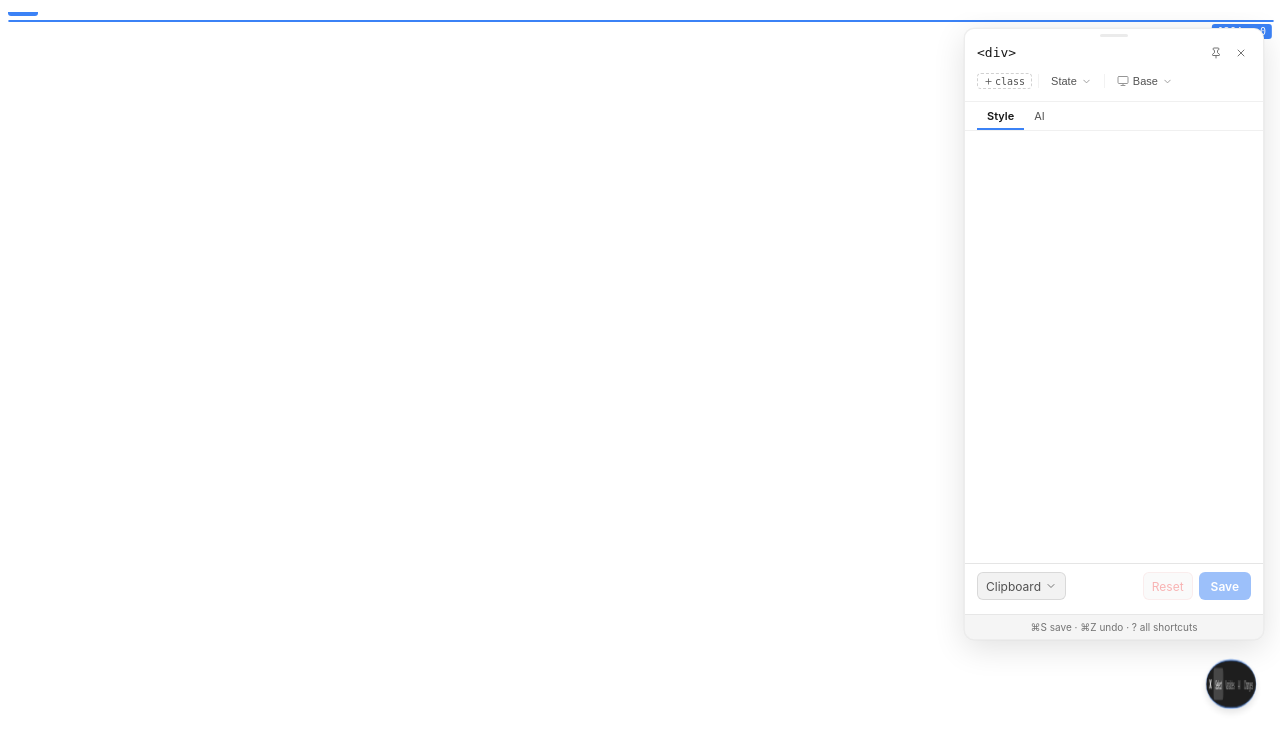
Test: class creation UI (audit 05-class-creation) › suggests existing page classes matching the prefix, and clicking one attaches it
Click the button with aria-label "Add class" at (1005, 81), box [977, 73, 1032, 89]
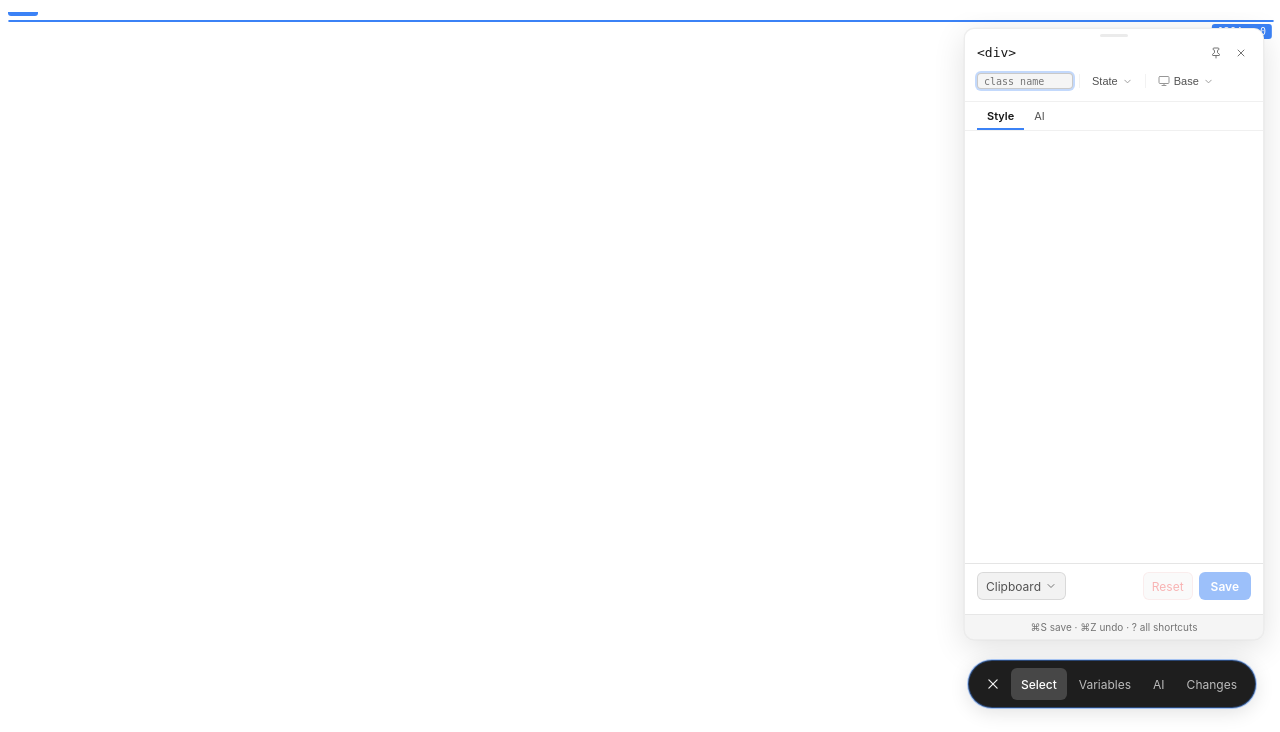
expect the field named "New class name" is shown: met
Type "hero" into the field named "New class name" at (1025, 81), box [977, 73, 1073, 89]
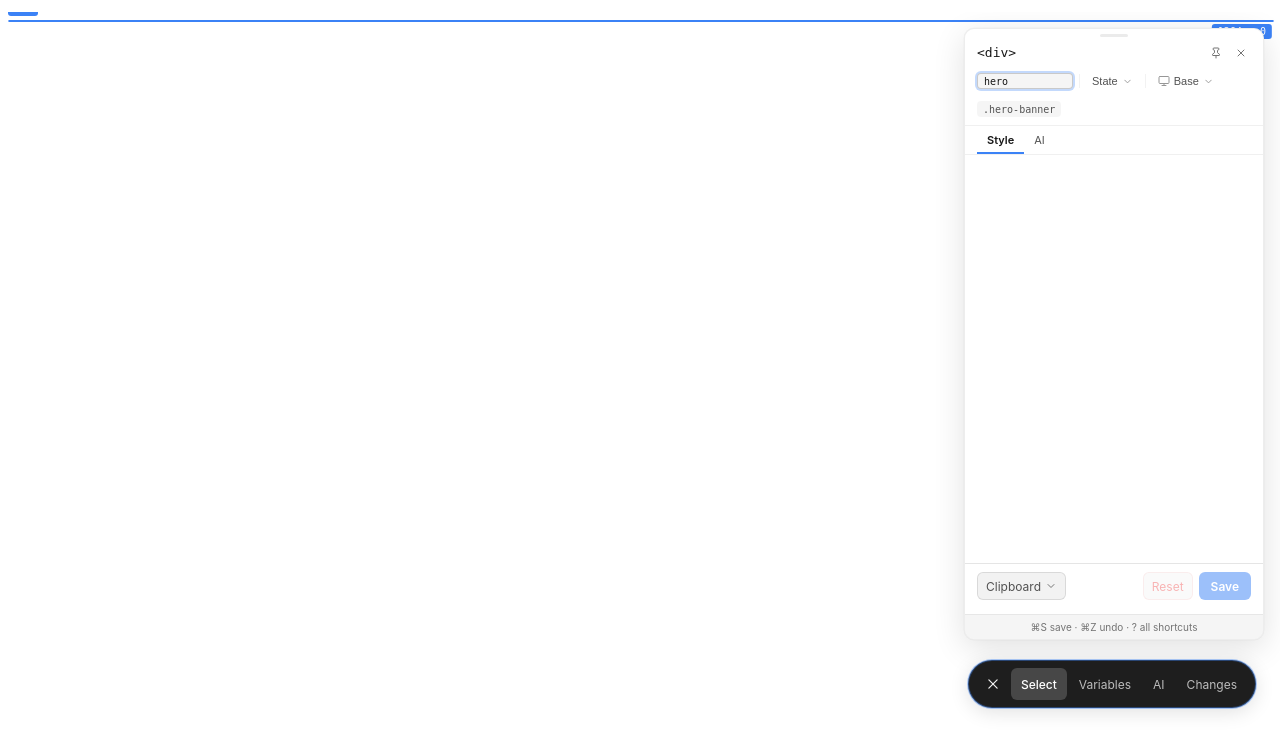
expect the button ".hero-banner" is shown: met
Click the button ".hero-banner" at (1019, 109), box [977, 101, 1061, 117]
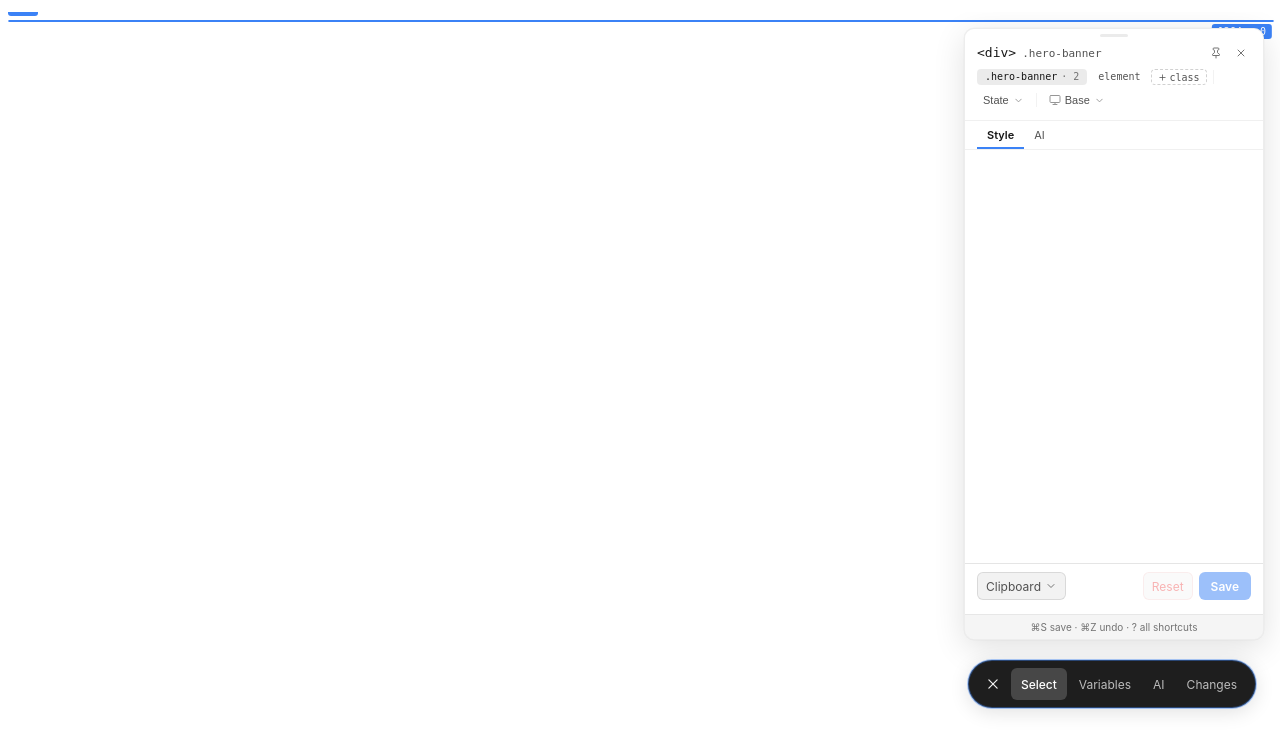
expect the button "class" is shown: met, box [1152, 69, 1207, 85]
